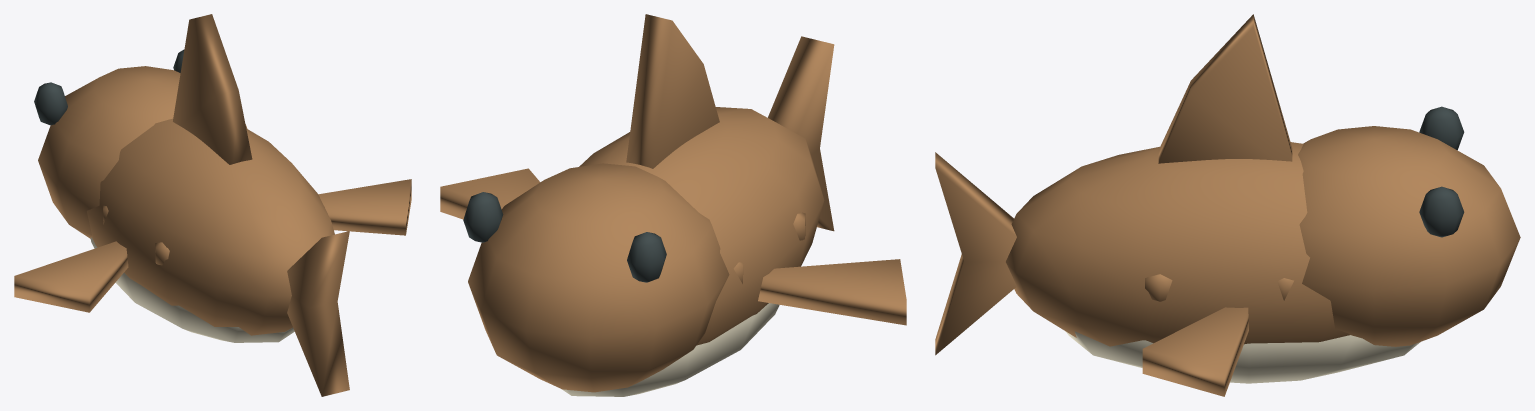
File: fish_goby.glb
3 views of the same model, side by side, from view 1: azimuth 30°, elevation 25°; view 2: azimuth 150°, elevation 25°; view 3: azimuth 270°, elevation 25° (orthographic). The views are drawn at different scales.
Bounding box in the file's own units: 0.2397 × 0.1715 × 0.26.
